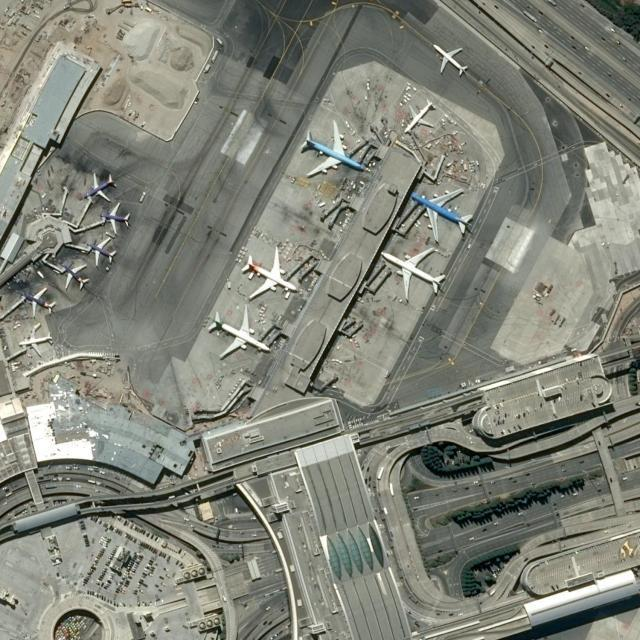Aircraft: (300, 121, 369, 179), (208, 306, 272, 363), (410, 189, 476, 242), (382, 247, 446, 299), (243, 247, 301, 303), (433, 44, 470, 78), (405, 99, 436, 136), (20, 326, 54, 358), (22, 288, 59, 317), (100, 205, 134, 235), (85, 172, 119, 202), (86, 238, 119, 268), (62, 262, 90, 292)
